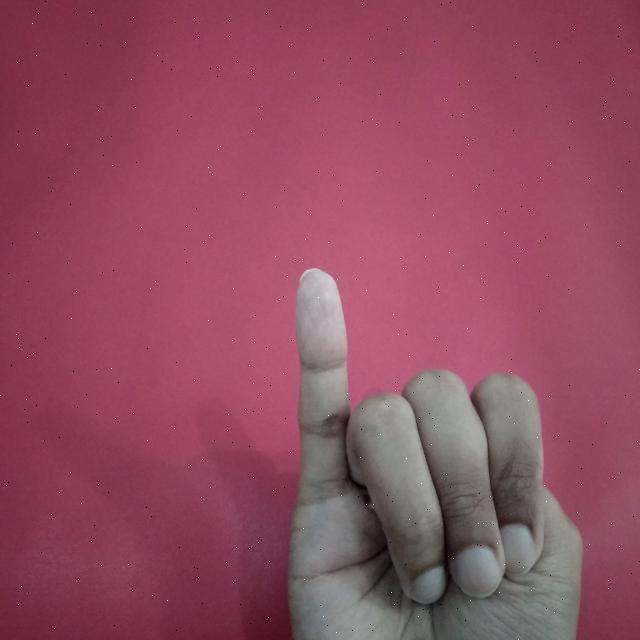I: (278, 261, 598, 640)
